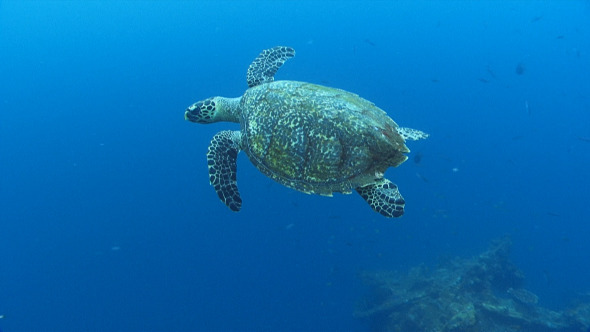trutle: (174, 35, 437, 236)
